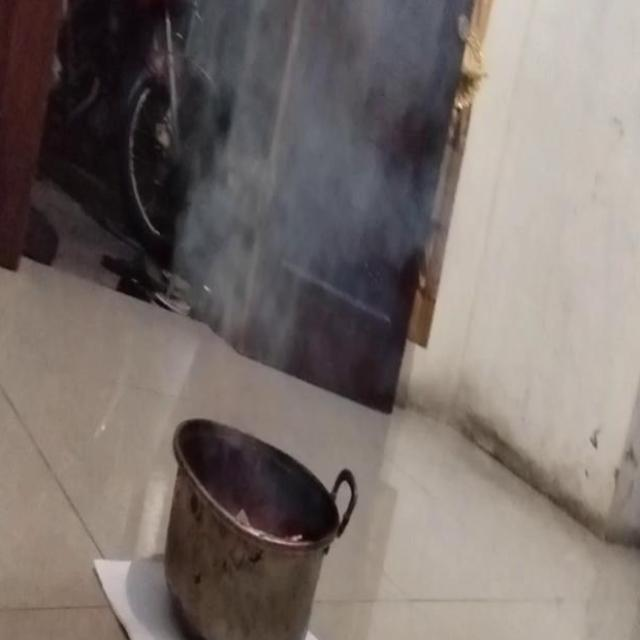fire: (189, 8, 442, 344)
